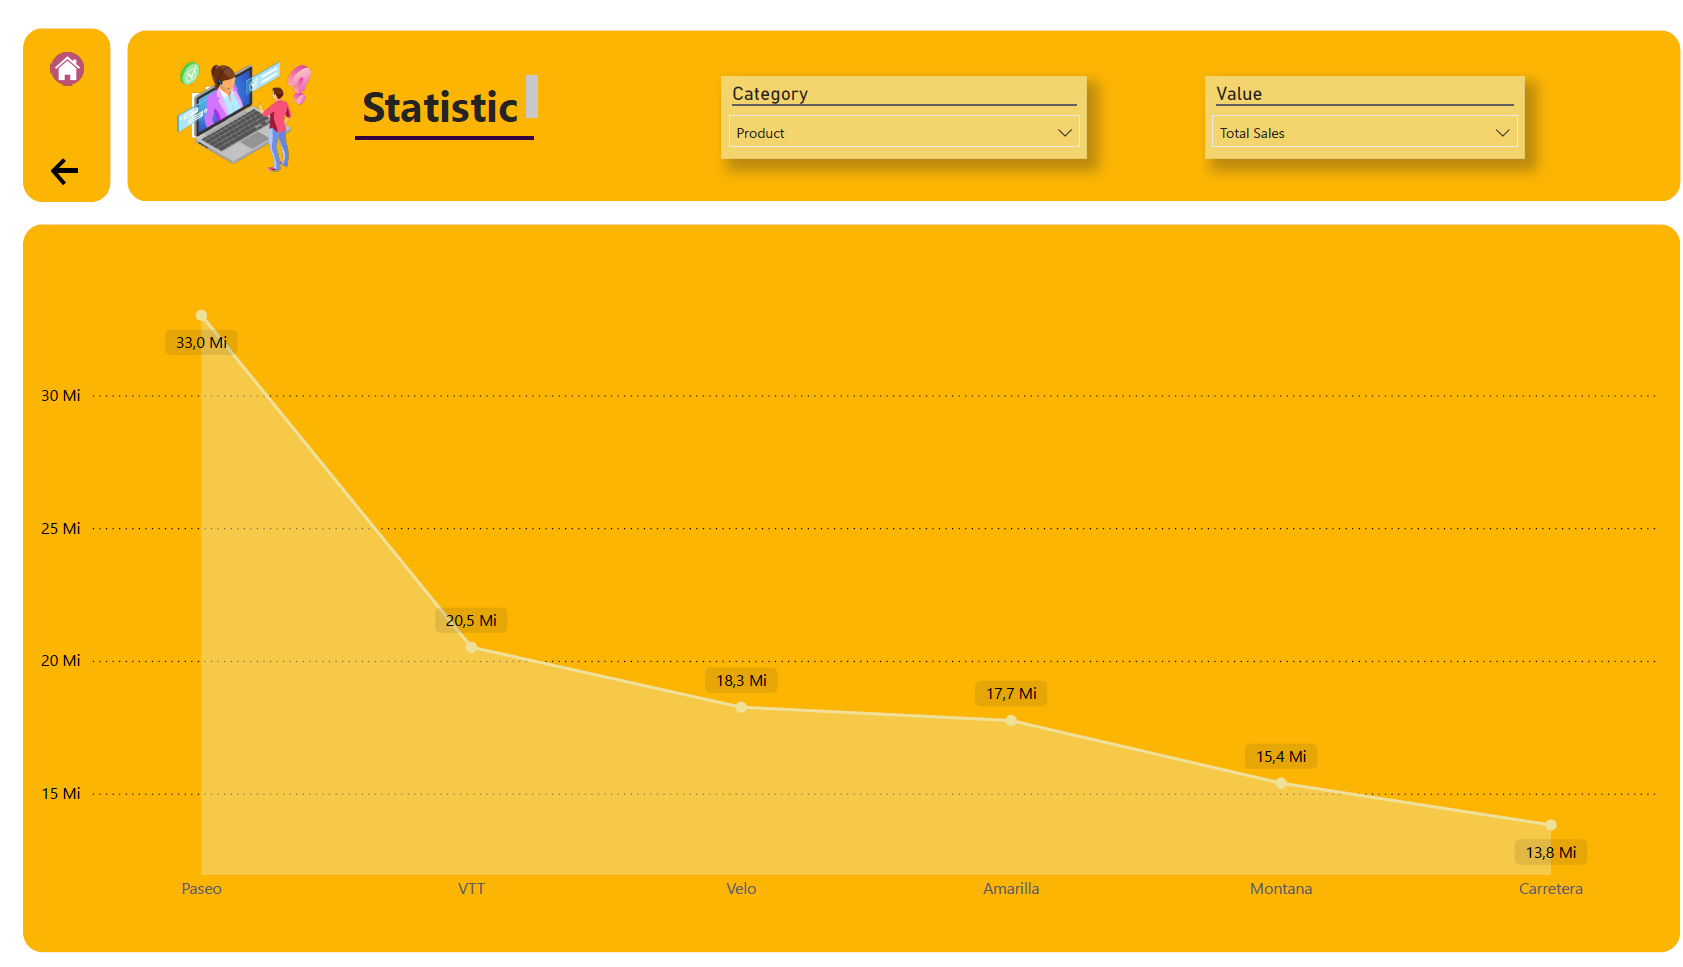

The dashboard page shown, as its layout file describes it:
{"tool":"powerbi","page":{"name":"Statistics","canvas":[1280,720],"ordinal":3},"visuals":[{"type":"shape","box":[10.6,159.4,1263.3,555],"z":0},{"type":"shape","box":[10.8,10,66.7,132.5],"z":1000,"group":"g2"},{"type":"group","id":"g1","title":"Home","box":[89.9,11.5,1184,130.4],"z":1000},{"type":"shape","box":[89.9,11.5,1184,130.4],"z":1000,"group":"g1"},{"type":"shape","box":[263.3,76.8,135.7,33.5],"z":1500,"group":"g1"},{"type":"actionButton","title":"Botão - Back","box":[28.4,105,29.2,30],"z":1750,"group":"g2"},{"type":"group","id":"g2","title":"Nav","box":[10.8,10,66.7,132.5],"z":2000},{"type":"image","box":[26.6,20.8,35,41.7],"z":2000,"group":"g2"},{"type":"textbox","box":[263.6,41.1,143.6,46.7],"z":2000,"group":"g1"},{"type":"image","box":[116.2,22.2,126,111],"z":3000,"group":"g1"},{"type":"actionButton","title":"Botão - Home","box":[31.6,25.8,24.2,26.7],"z":3000,"group":"g2"},{"type":"lineChart","title":"Sales per Month","fields":{"Category":["financials.Product"],"Y":["financials.total sales"]},"box":[23.8,194.5,1233.4,484.3],"z":3000},{"type":"slicer","fields":{"Values":["Category.Category"]},"box":[543.2,46.6,278,61.9],"z":4000},{"type":"slicer","fields":{"Values":["Value.Value"]},"box":[912,46.6,242.7,61.9],"z":6000}]}

Visuals, with their boxes in screenshot pixels (x1, y1, x2, y2), scaled from the page's 1280x720 canvas onto the 1683x967 screenshot:
shape: 14/214/1675/959
shape: 14/13/102/191
"Home" group: 118/15/1675/191
shape: 118/15/1675/191
shape: 346/103/525/148
"Botão - Back" actionButton: 37/141/76/181
"Nav" group: 14/13/102/191
image: 35/28/81/84
textbox: 347/55/535/118
image: 153/30/318/179
"Botão - Home" actionButton: 42/35/73/71
"Sales per Month" lineChart: 31/261/1653/912
slicer - Category.Category: 714/63/1080/146
slicer - Value.Value: 1199/63/1518/146
